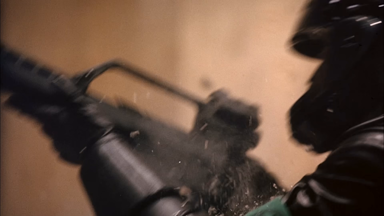firearm: (2, 41, 286, 213)
